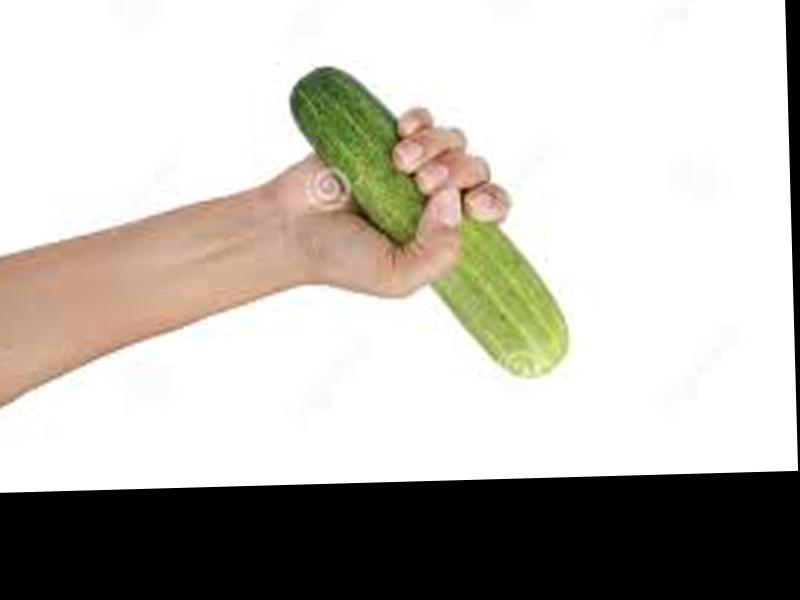Cucumber: (282, 60, 568, 381)
